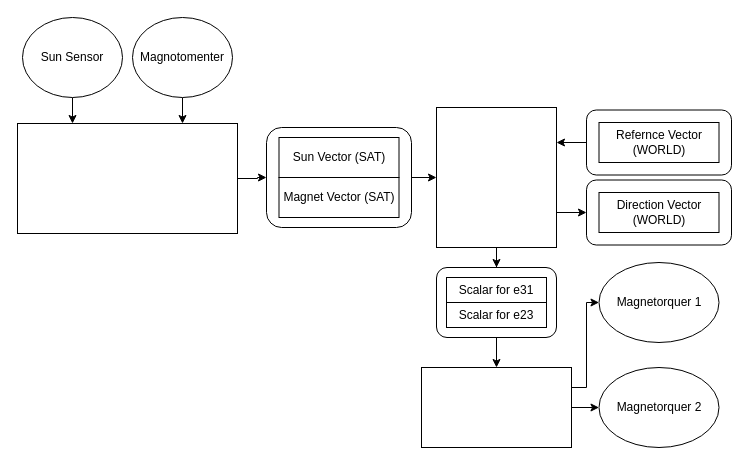
Some shapes in this 749 by 465 pixel diagram are drawn without their labels. Each missing label, with the box of its shape:
Actuator Controller Loop: (420, 366, 572, 448)
Control Loop: (436, 106, 556, 248)
Meassurement Loop: (16, 122, 238, 234)
